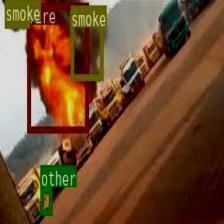fire: (26, 1, 88, 132)
smoke: (70, 4, 102, 79), (5, 0, 28, 27)
